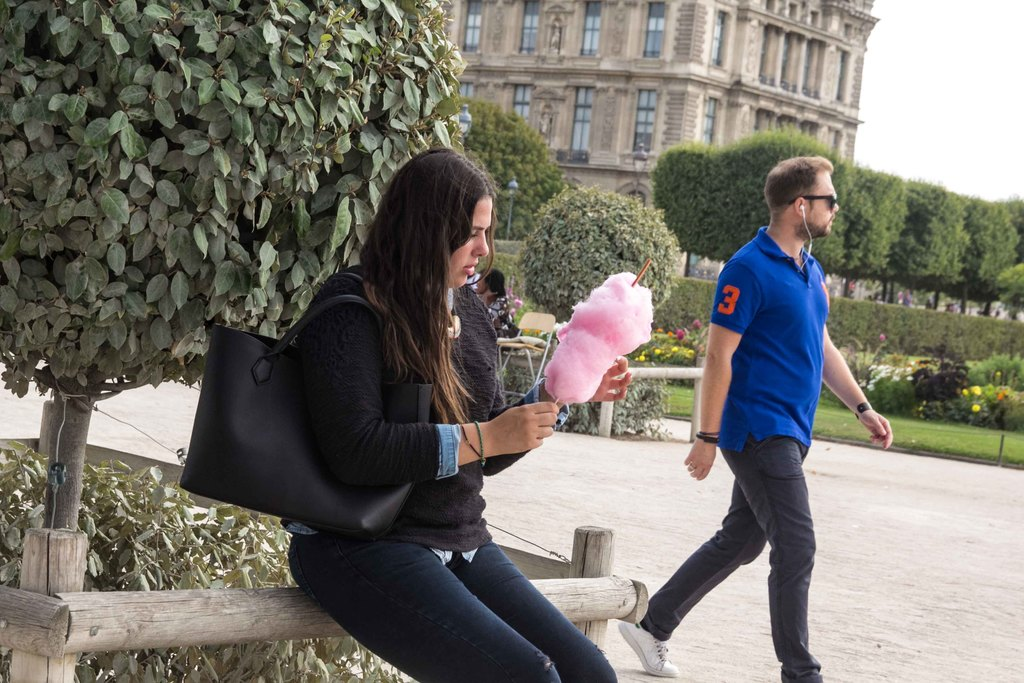Footwear: (612, 619, 677, 677)
